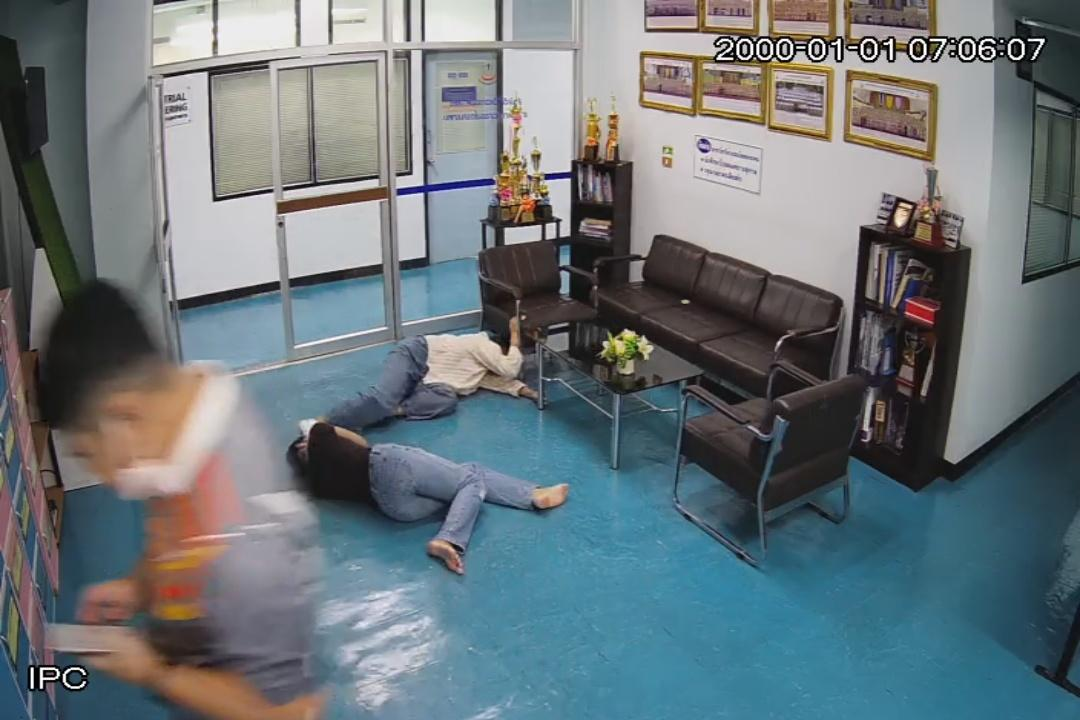fall: (284, 416, 568, 584), (340, 316, 548, 440)
normal: (12, 275, 330, 720)
